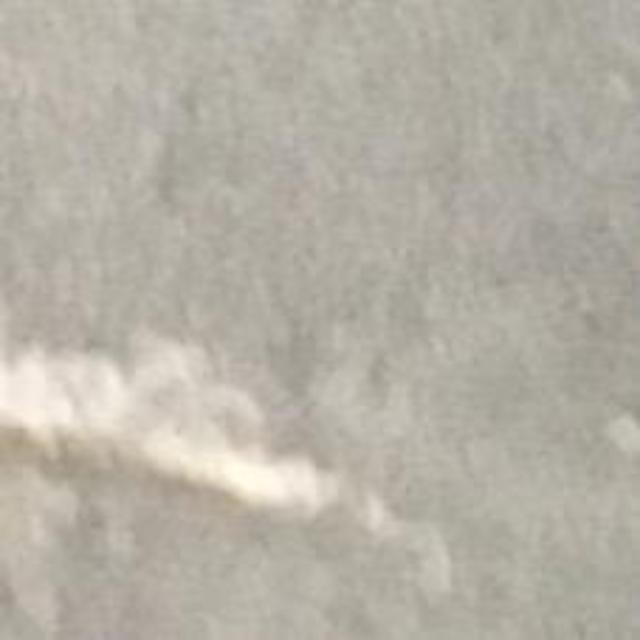peeling plaster: (0, 350, 403, 535)
